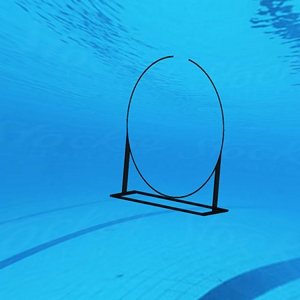circle: (109, 47, 232, 219)
